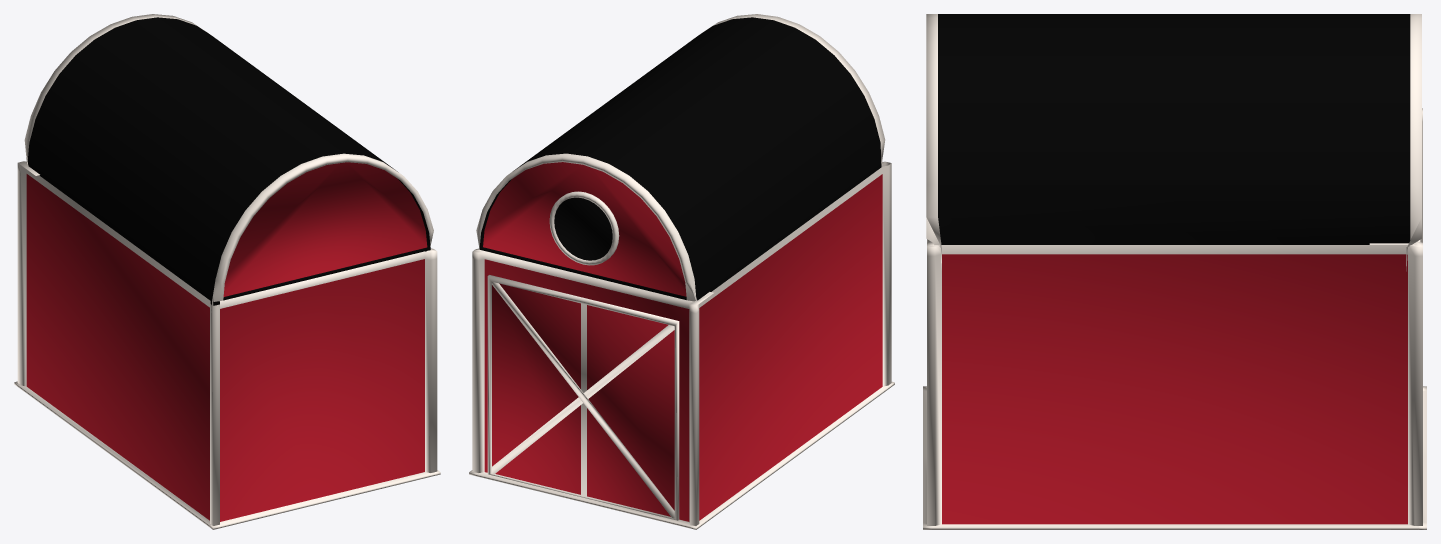
Rendered from farm.fbx.
3 renders of one model, left to right at view 1: azimuth 30°, elevation 25°; view 2: azimuth 150°, elevation 25°; view 3: azimuth 270°, elevation 25°, orthographic. The views are drawn at different scales.
Visible parts, largest first — view 1: Plane; view 2: Plane; view 3: Plane.
Boxes of the visible parts, box(x1,y1,x2,y2) form: Plane: box(14, 14, 440, 529); Plane: box(469, 14, 894, 529); Plane: box(923, 14, 1426, 529).
Size of the model in its own units: 654 by 937 by 990.
Materials: 1 (1 with a texture image).
